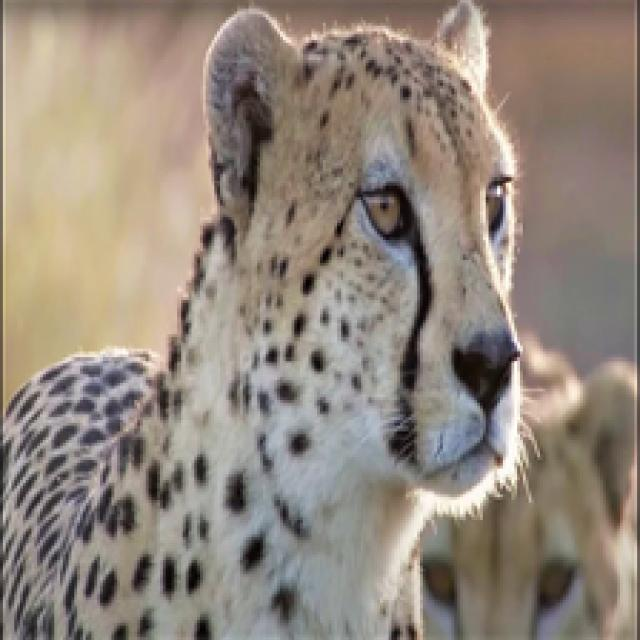cheetah: (0, 0, 640, 640), (383, 357, 640, 640)
